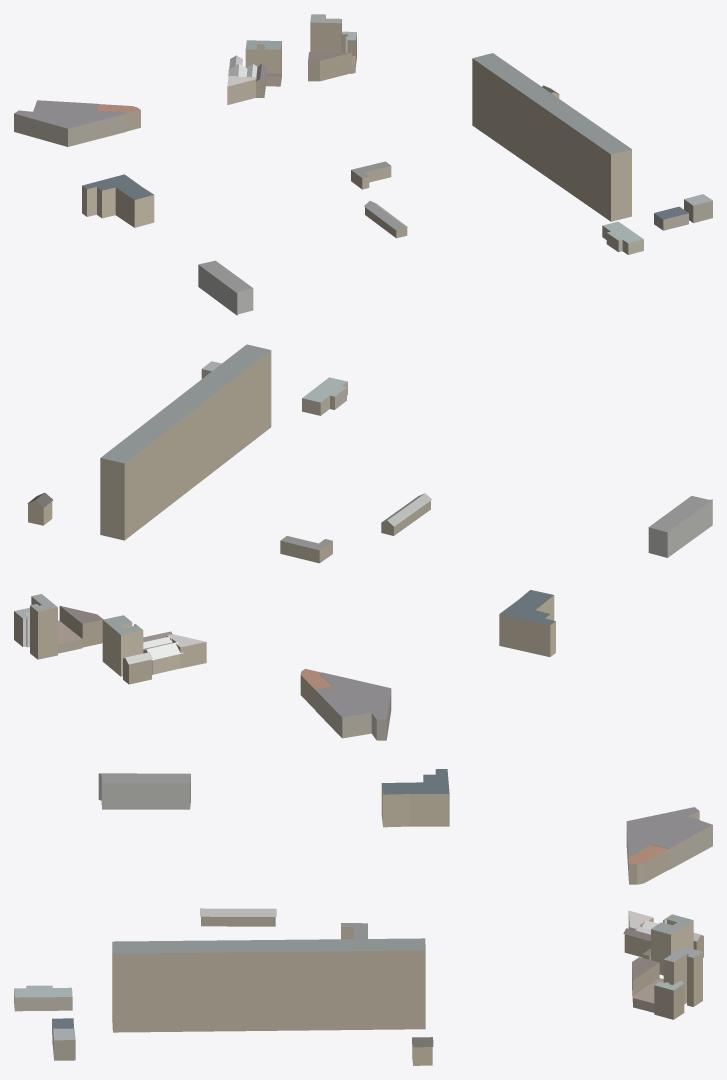
3 renders of one model, top to bottom at view 1: azimuth 30°, elevation 25°; view 2: azimuth 150°, elevation 25°; view 3: azimuth 270°, elevation 25°, orthographic. The views are drawn at different scales.
Parts seen in each view (by area): view 1: tuile; view 2: tuile; view 3: tuile.
Boxes of the visible parts, x1,y1,x2,y2 form: tuile: (14, 14, 712, 315); tuile: (14, 344, 712, 740); tuile: (14, 769, 712, 1065).
Bounding box in the file's own units: 242 × 37.96 × 270.
